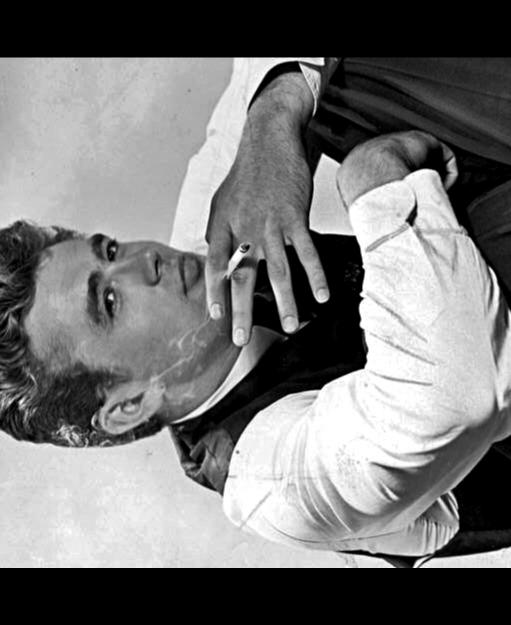Cigarette: (0, 62, 511, 549), (222, 243, 251, 276)
